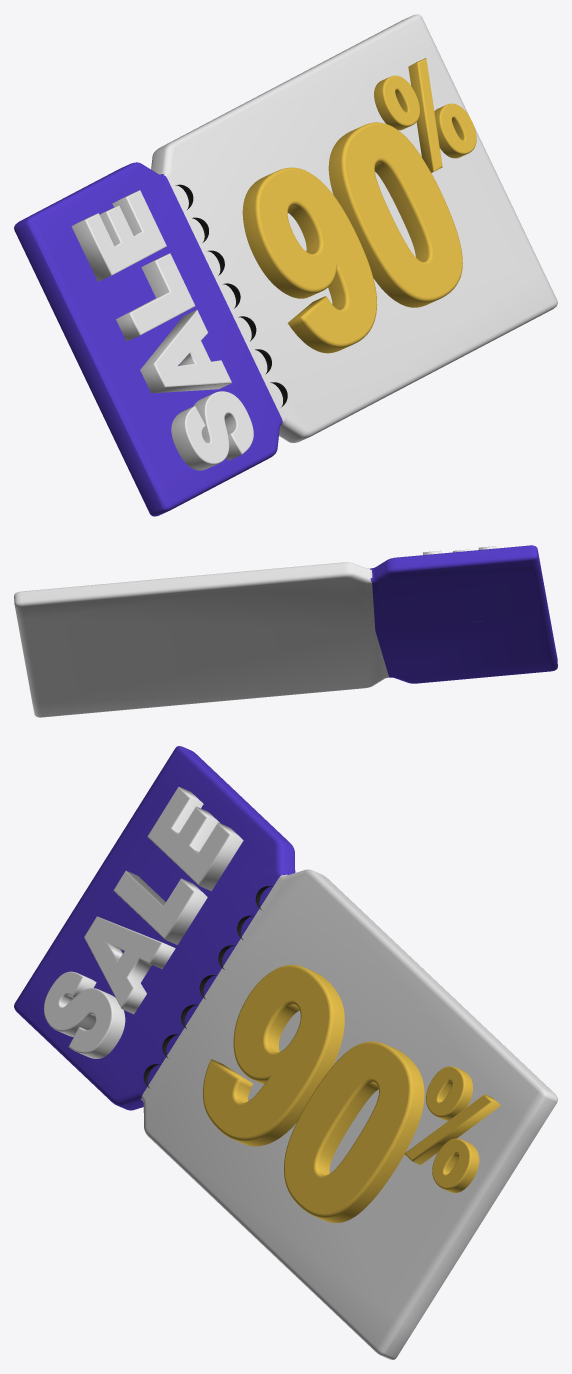
The model's file is voucher-3d-icon-987848172589.glb.
The picture shows the model from 3 angles, top to bottom: view 1: azimuth 30°, elevation 25°; view 2: azimuth 150°, elevation 25°; view 3: azimuth 270°, elevation 25°; orthographic projection. The views are drawn at different scales.
Parts seen in each view (by area): view 1: Voucher 1, 90%, Voucher 2, Sale, Voucher 3; view 2: Voucher 1, Voucher 2; view 3: Voucher 1, 90%, Voucher 2, Sale, Voucher 3.
Boxes of the visible parts, bbox=[...] form: Voucher 1: bbox=[151, 14, 557, 442]; 90%: bbox=[242, 58, 476, 353]; Voucher 2: bbox=[14, 162, 282, 516]; Sale: bbox=[71, 190, 253, 470]; Voucher 3: bbox=[175, 184, 287, 406]; Voucher 1: bbox=[14, 562, 388, 717]; Voucher 2: bbox=[370, 545, 557, 683]; Voucher 1: bbox=[141, 869, 557, 1359]; 90%: bbox=[203, 965, 500, 1222]; Voucher 2: bbox=[14, 746, 295, 1110]; Sale: bbox=[44, 787, 243, 1058]; Voucher 3: bbox=[143, 886, 272, 1088].
Bounding box in the file's own units: 1.83 × 0.8839 × 1.37.
